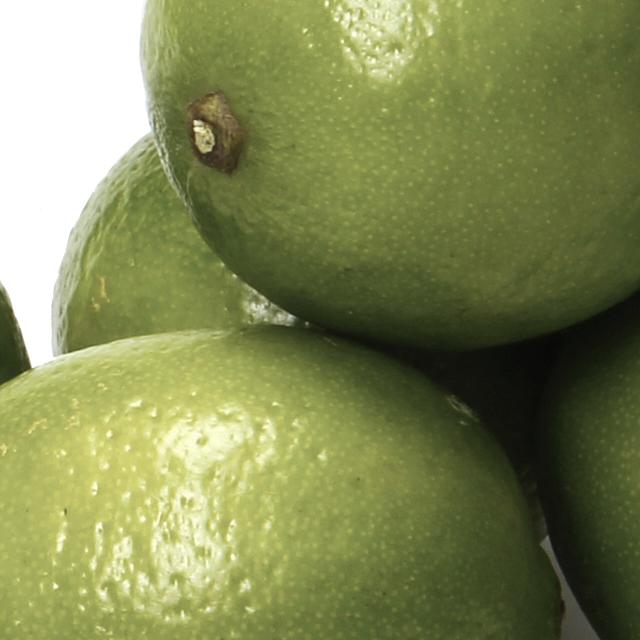lime: (155, 0, 640, 343), (0, 356, 523, 640)
